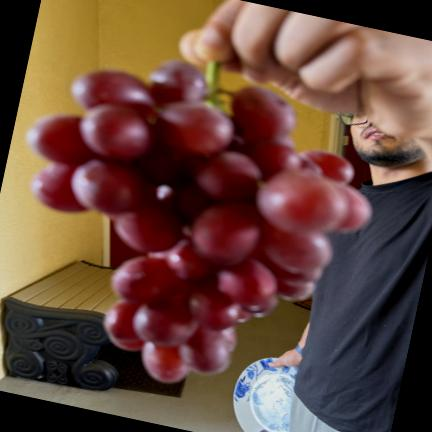grape_cluster: (27, 61, 372, 383)
